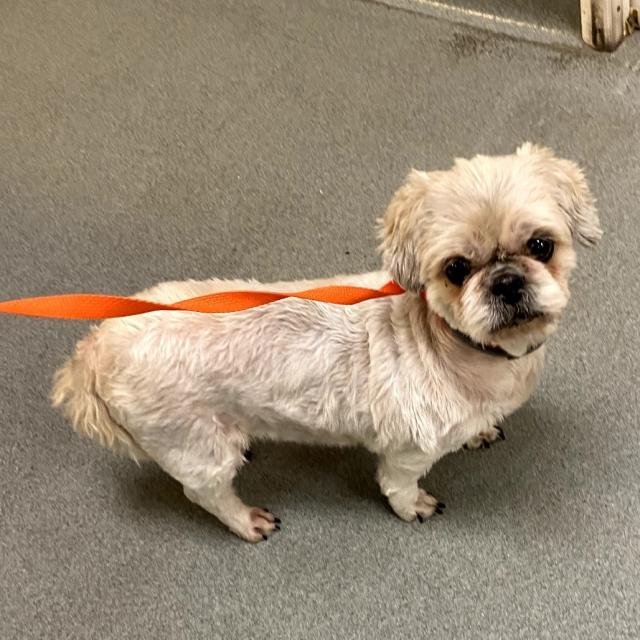shih_tzu_dog: (374, 132, 609, 367)
